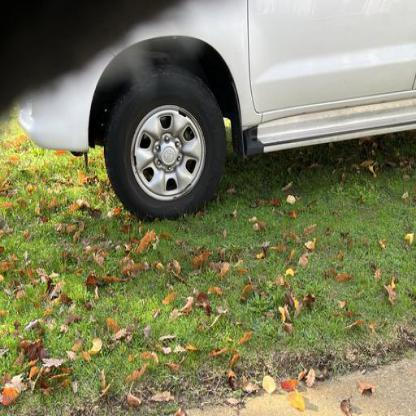Tire: (104, 65, 226, 224)
